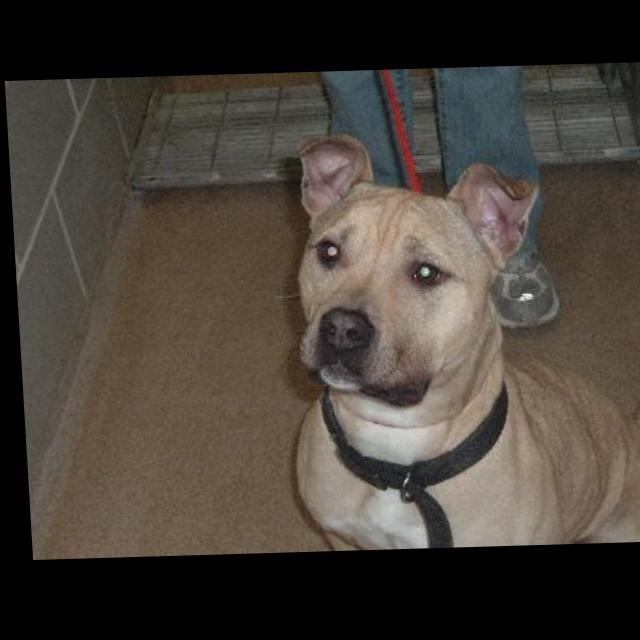staffford: (268, 127, 640, 554)
